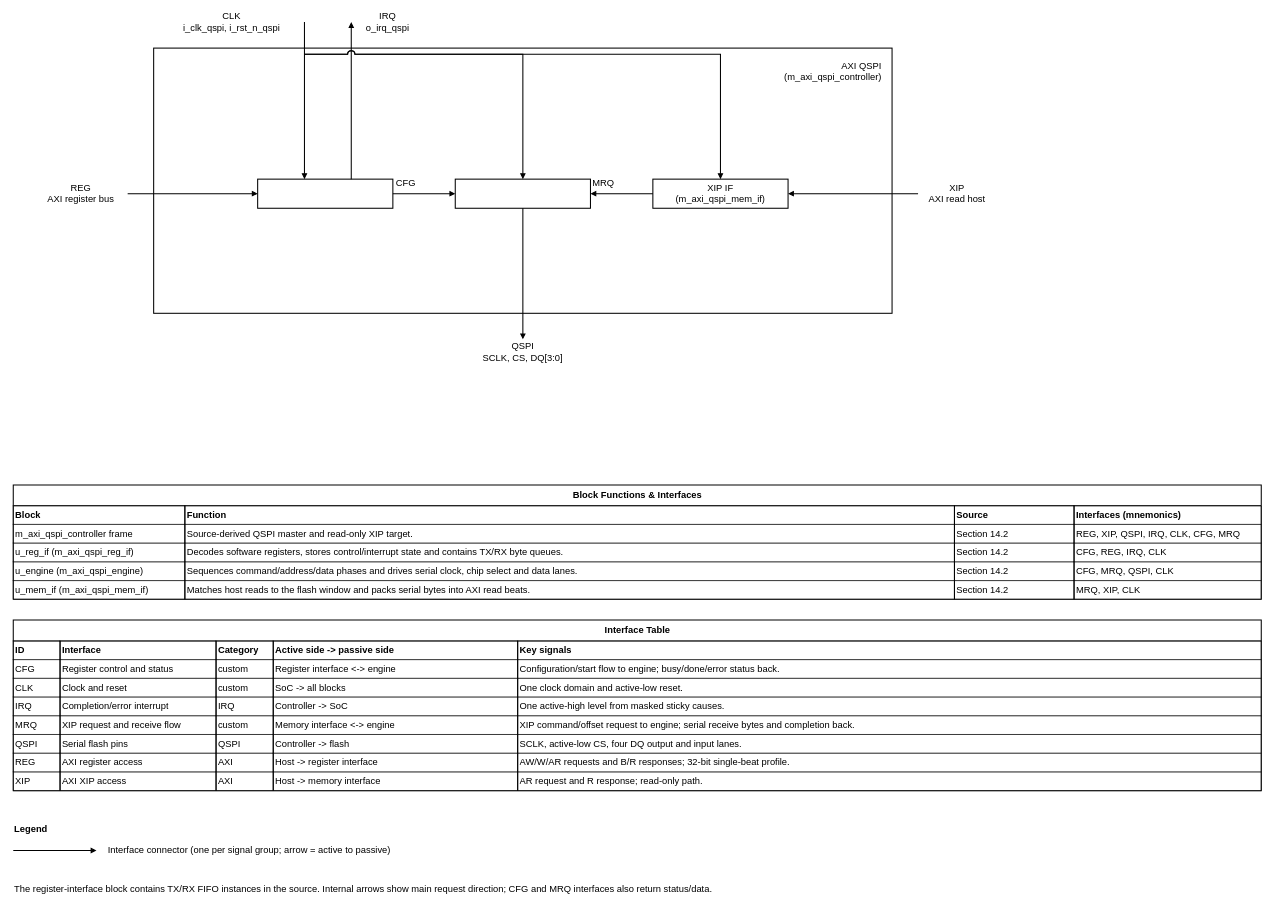
Image size: 1270x921. Some labels were removed from this diagram. Here are the shapes that lost their labels. From the top down, the centre of each, then its label:
At [325,193]: "Register IF (m_axi_qspi_reg_if)".
At [522,193]: "QSPI Engine (m_axi_qspi_engine)".
